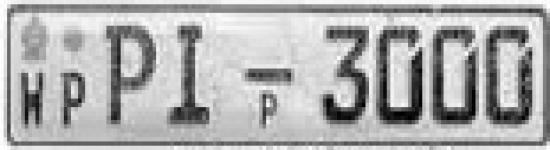-: (241, 60, 298, 93)
0: (480, 19, 537, 132), (428, 16, 480, 131), (374, 19, 428, 128)
3: (316, 14, 373, 138)
I: (159, 16, 224, 137)
P: (99, 19, 159, 130), (50, 64, 95, 136)
W: (15, 66, 51, 134)
